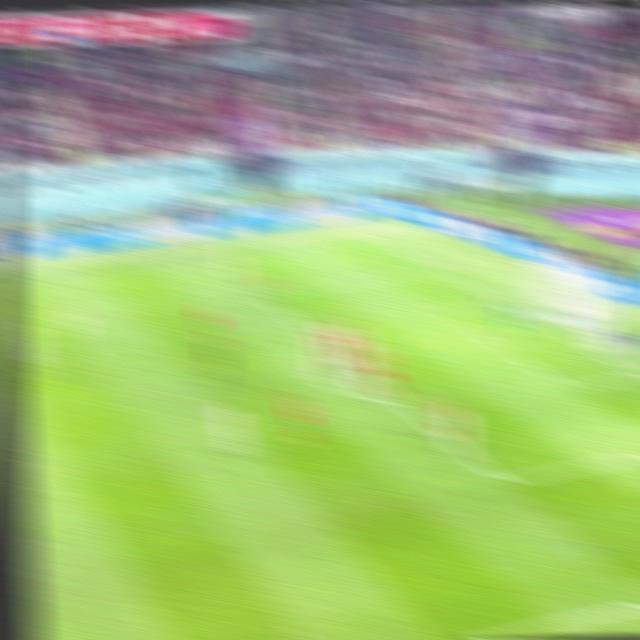bigarea_bottom_inner: (485, 466, 518, 495)
bigarea_top_inner: (246, 284, 276, 304)
bigarea_top_outter: (422, 260, 452, 278)
bottom_arc_area_intersection: (386, 391, 417, 411)
corner: (357, 227, 387, 244)
smallarea_bottom_inner: (552, 372, 585, 400)
smallarea_bottom_outter: (622, 363, 640, 384)
smallarea_top_inner: (426, 301, 457, 320)
smallarea_top_outter: (485, 291, 516, 312)
top_arc_area_intersection: (304, 328, 333, 346)
